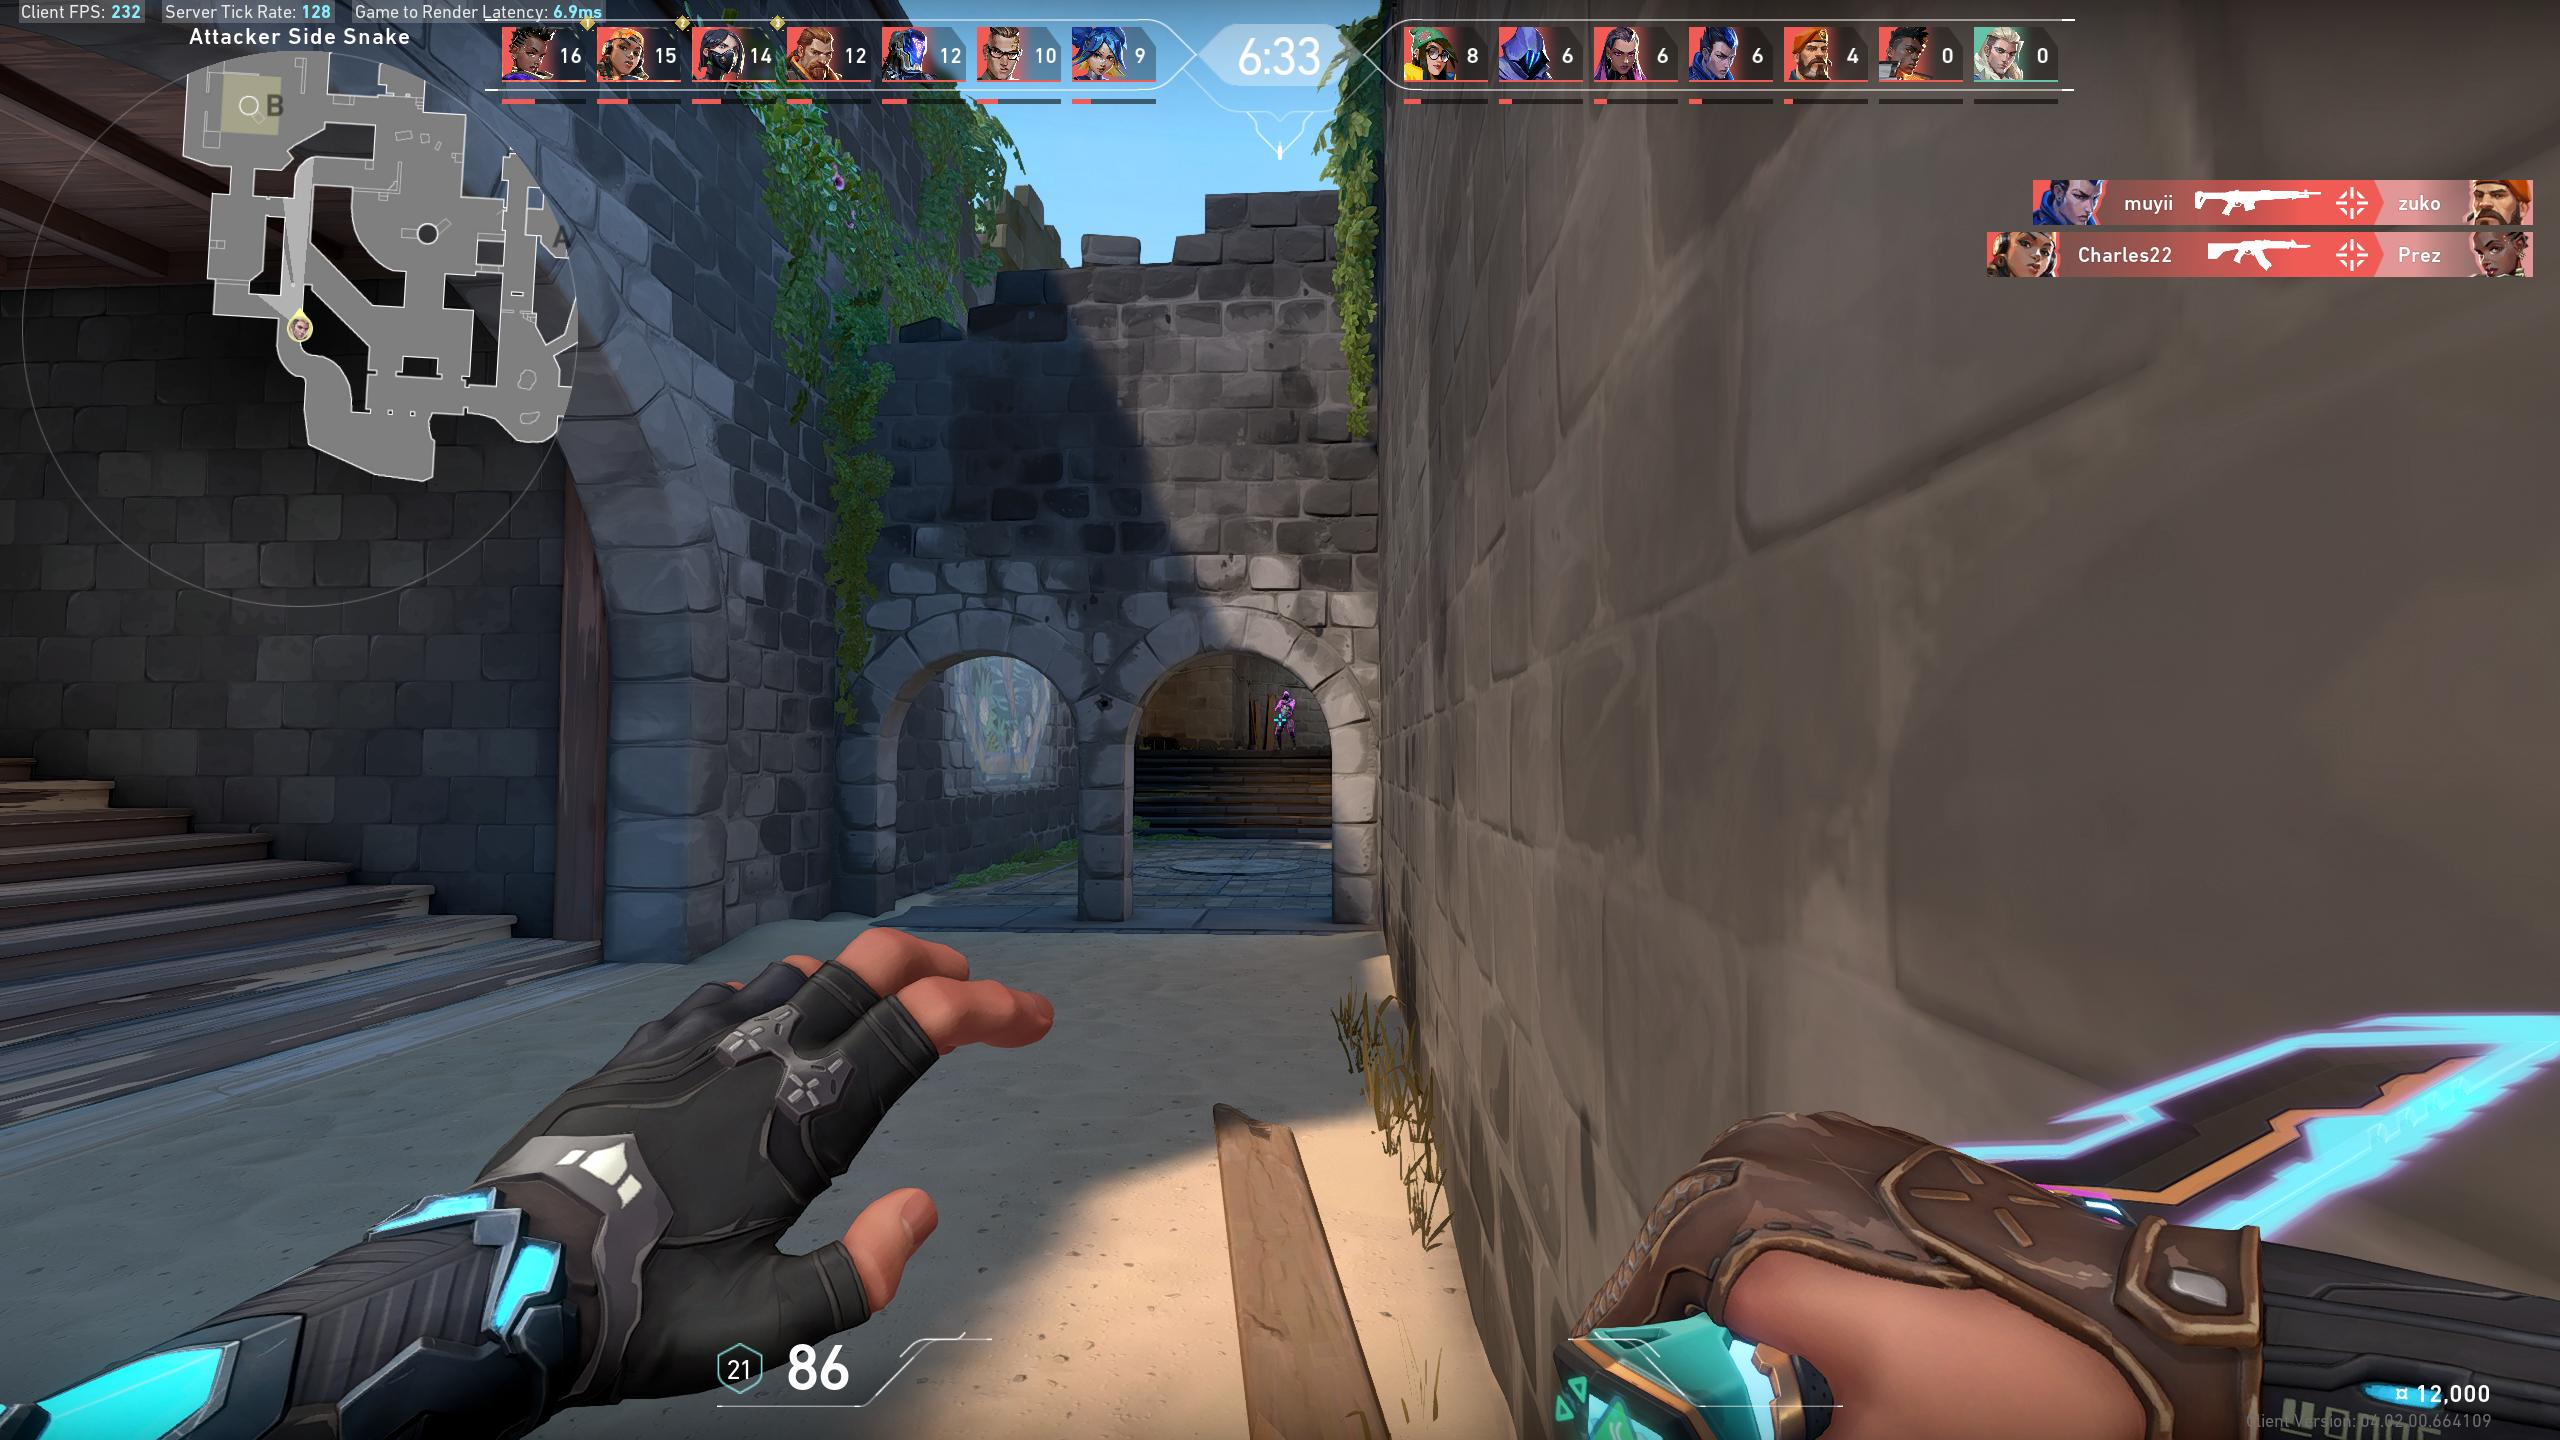enemyBody: (1284, 702, 1291, 719)
enemyHead: (1285, 695, 1289, 700)
